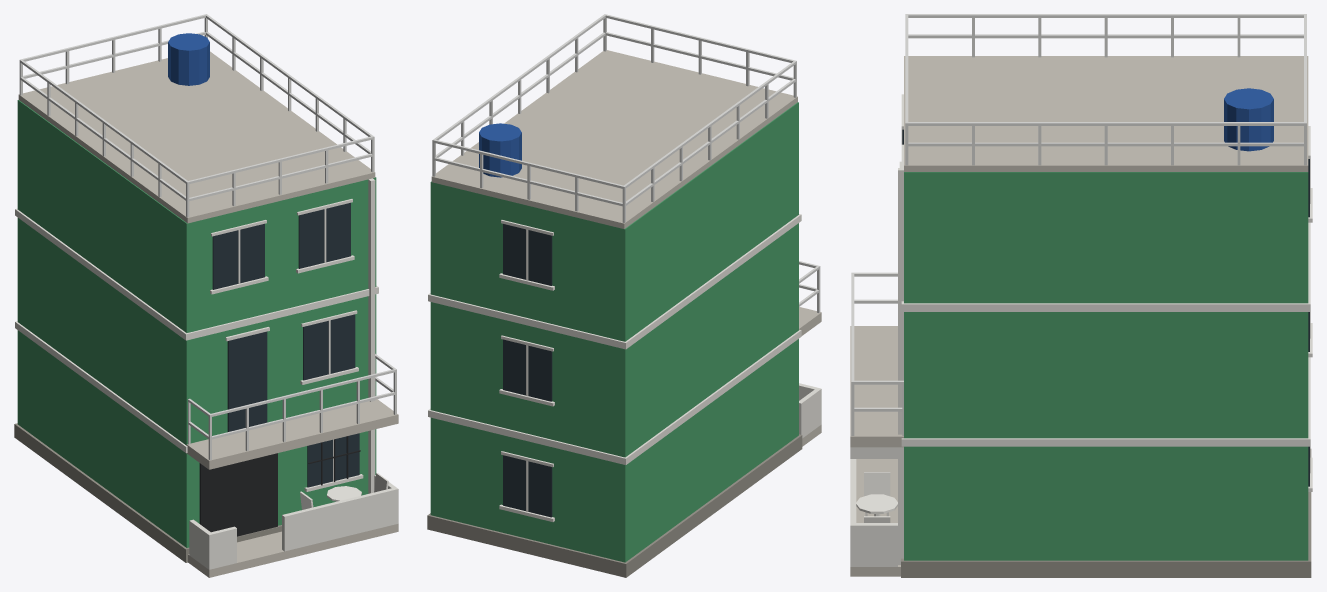
Rendered from BAY_F_ThreeStorey_S.glb.
The picture shows the model from 3 angles, left to right: view 1: azimuth 30°, elevation 25°; view 2: azimuth 150°, elevation 25°; view 3: azimuth 270°, elevation 25°; orthographic projection. The views are drawn at different scales.
Parts seen in each view (by area): view 1: BAY_F_ThreeStorey_S; view 2: BAY_F_ThreeStorey_S; view 3: BAY_F_ThreeStorey_S.
Part boxes in pixels (x1=…): BAY_F_ThreeStorey_S: x1=14, y1=14, x2=398, y2=577; BAY_F_ThreeStorey_S: x1=427, y1=14, x2=821, y2=577; BAY_F_ThreeStorey_S: x1=850, y1=14, x2=1312, y2=577.
Size of the model in its own units: 4.5 by 8.4 by 7.77.
1 material, 1 textured.
